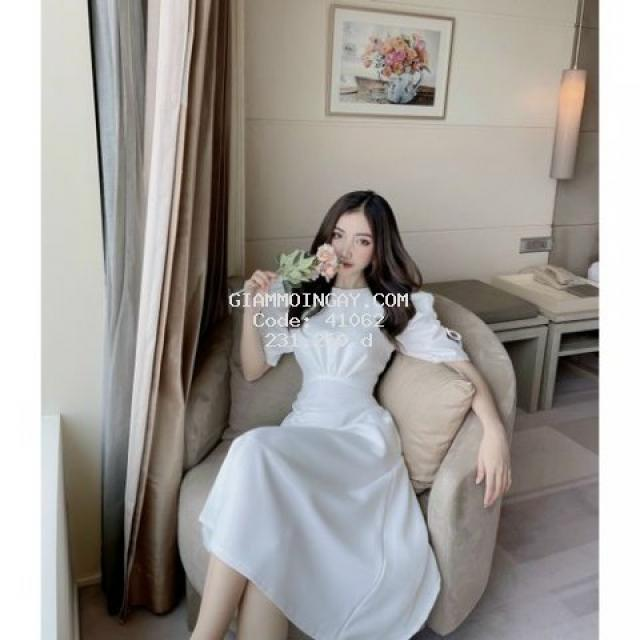clothes: (196, 276, 465, 640)
